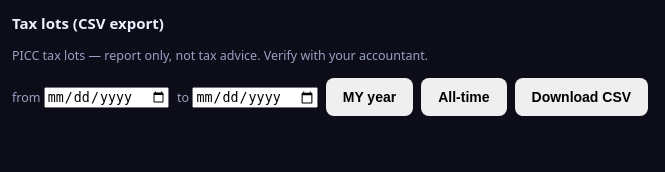
Scenario: TaxLotsSection › a refused period surfaces the route's named reason, never a silent default
The width and height of the screenshot is (665, 172).
Click the button with test id "tax-download" at x=581, y=97, box [514,78,648,116]
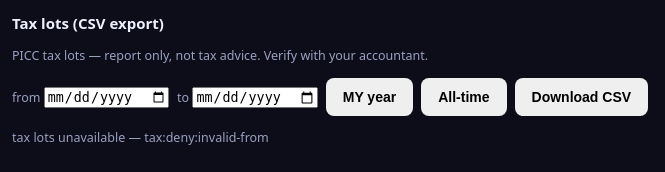
Now the text with test id "tax-error" shows "tax:deny:invalid-from", box [144,129,269,146]
